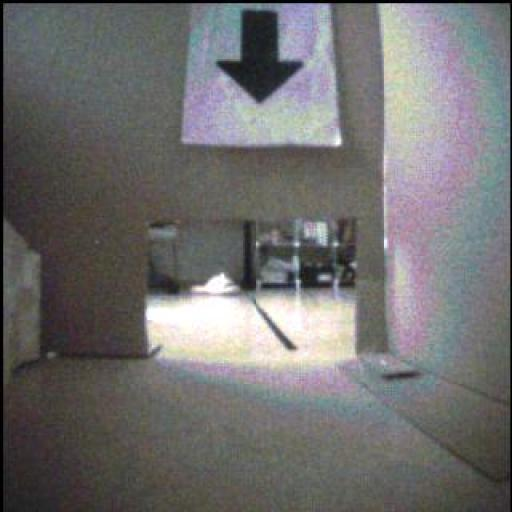arrow: (217, 11, 303, 104)
